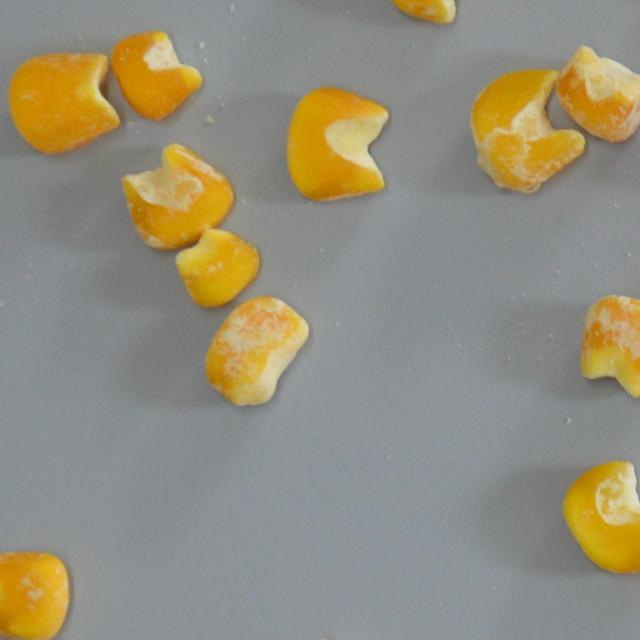no_canjicado: (285, 85, 387, 204), (108, 27, 204, 125), (562, 458, 640, 573), (382, 0, 474, 29)
pelicula: (468, 67, 583, 190), (119, 142, 232, 249), (5, 50, 119, 155), (203, 294, 308, 405), (556, 44, 640, 142), (0, 549, 71, 640), (579, 294, 640, 396)
